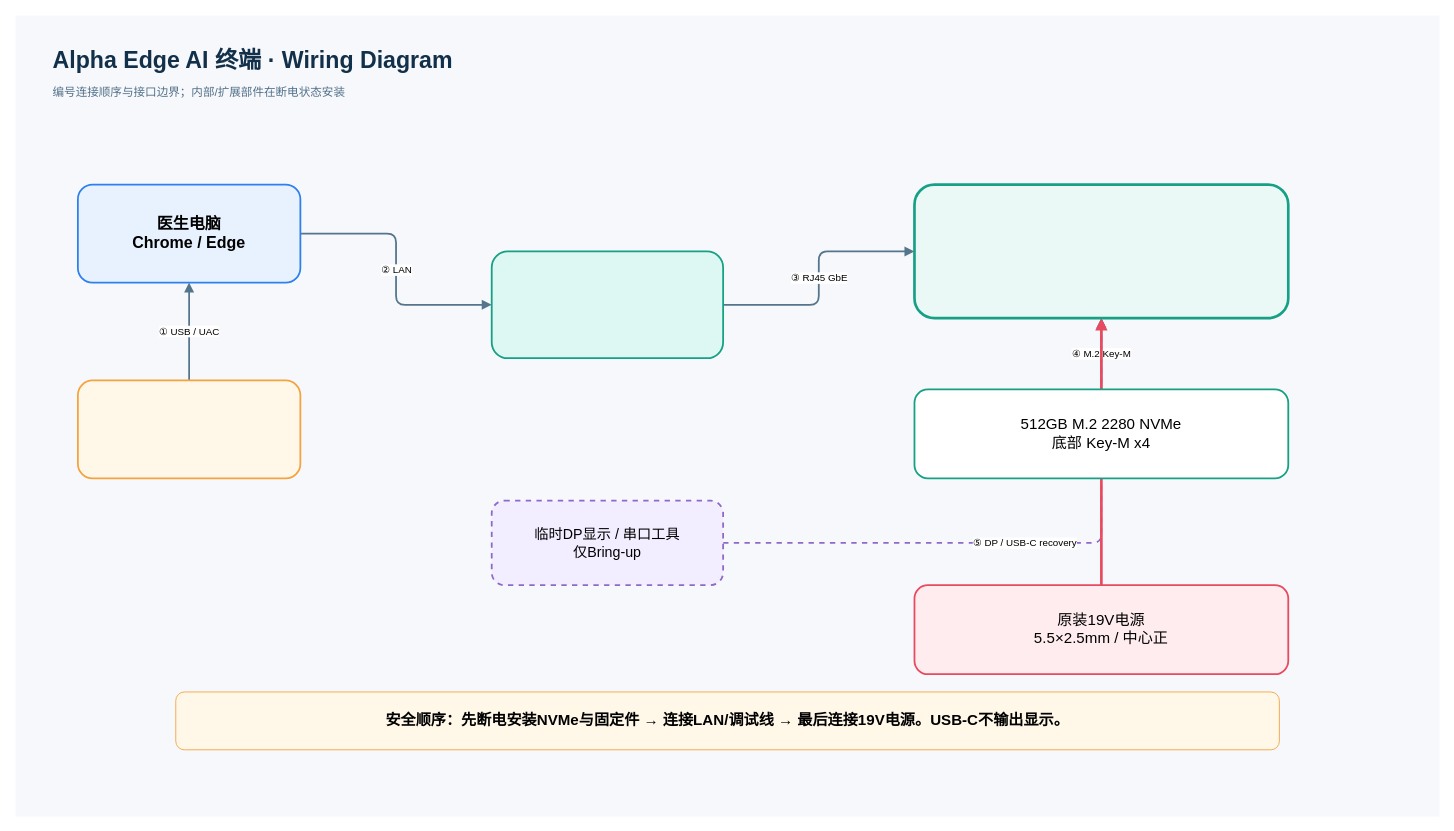
Image size: 1454x831. Some labels were removed from this diagram. Here are the shapes that lost their labels. From the top down, the centre of each, then its label:
At point (1101, 251): "Jetson Developer Kit GbE · USB-A · DP · USB-C · DC".
At point (607, 304): "既有路由器 / 交换机 端口待核".
At point (189, 429): "六麦阵列 / USB麦克风 型号待核".
